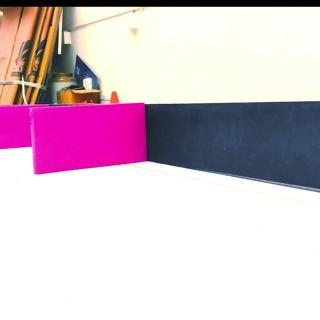xparking: (36, 107, 146, 166)
